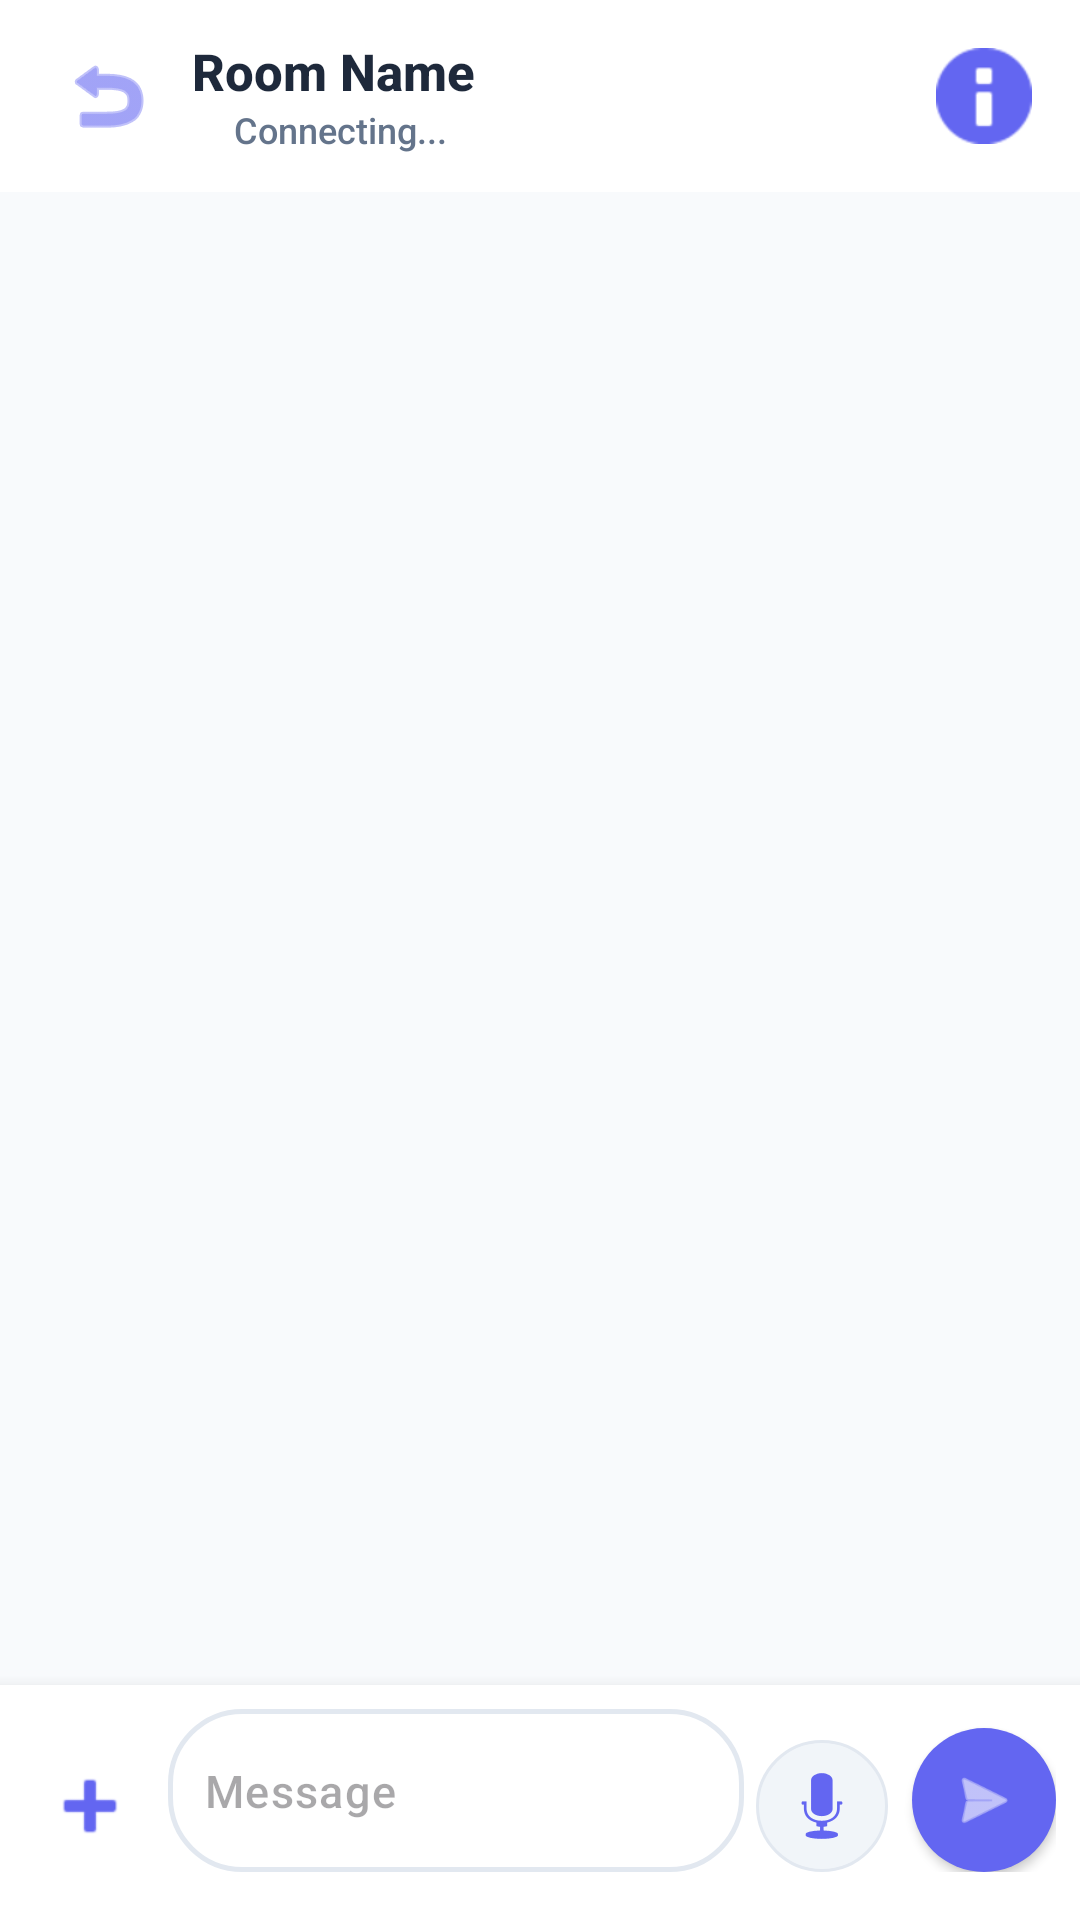

Icons on this 1080px x 1920px Android screen, each with its box as (x1, y1, x2, y2):
add: (63, 1779, 117, 1833)
info: (936, 48, 1032, 144)
revert: (75, 66, 144, 128)
send: (912, 1728, 1056, 1872)
speak now: (756, 1740, 888, 1872)
